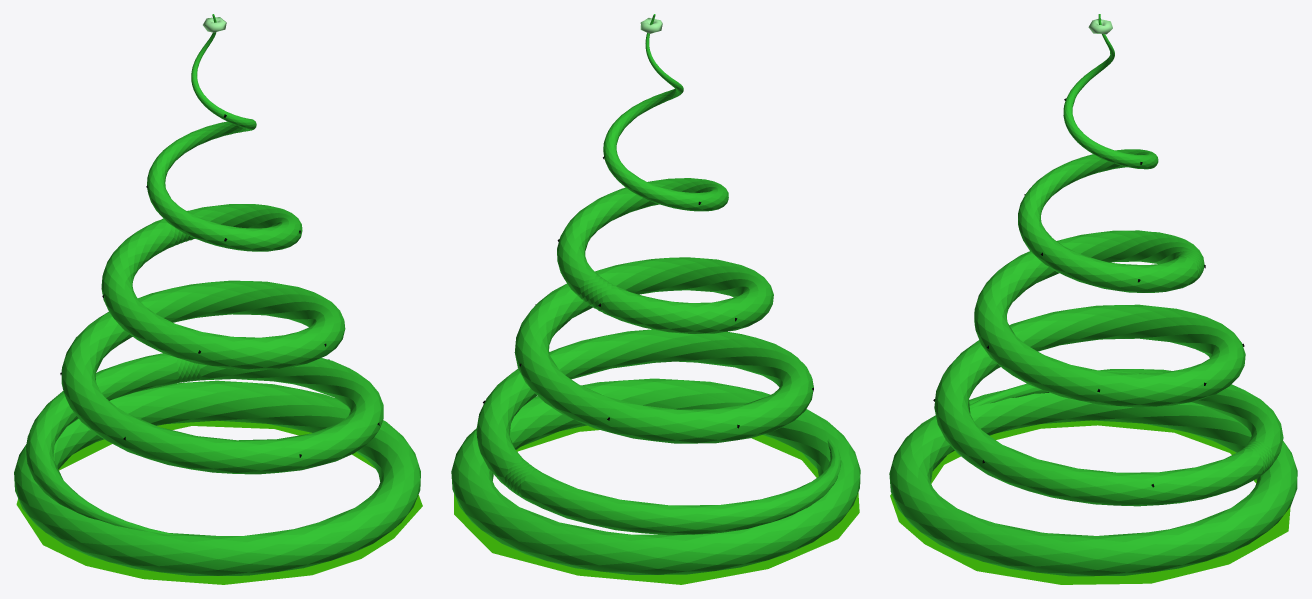
File: jokastree2.gltf
3 renders of one model, left to right at view 1: azimuth 30°, elevation 25°; view 2: azimuth 150°, elevation 25°; view 3: azimuth 270°, elevation 25°, orthographic.
Parts seen in each view (by area): view 1: jolka s igruskami.001, Plane; view 2: jolka s igruskami.001, Plane; view 3: jolka s igruskami.001, Plane.
Part boxes in pixels (x1,y1,x2,y2): jolka s igruskami.001: (14,14,420,575); Plane: (16,420,422,584); jolka s igruskami.001: (451,14,860,574); Plane: (454,425,859,584); jolka s igruskami.001: (889,14,1297,576); Plane: (890,420,1290,584).
Bounding box in the file's own units: 62.75 × 81.84 × 62.48.
